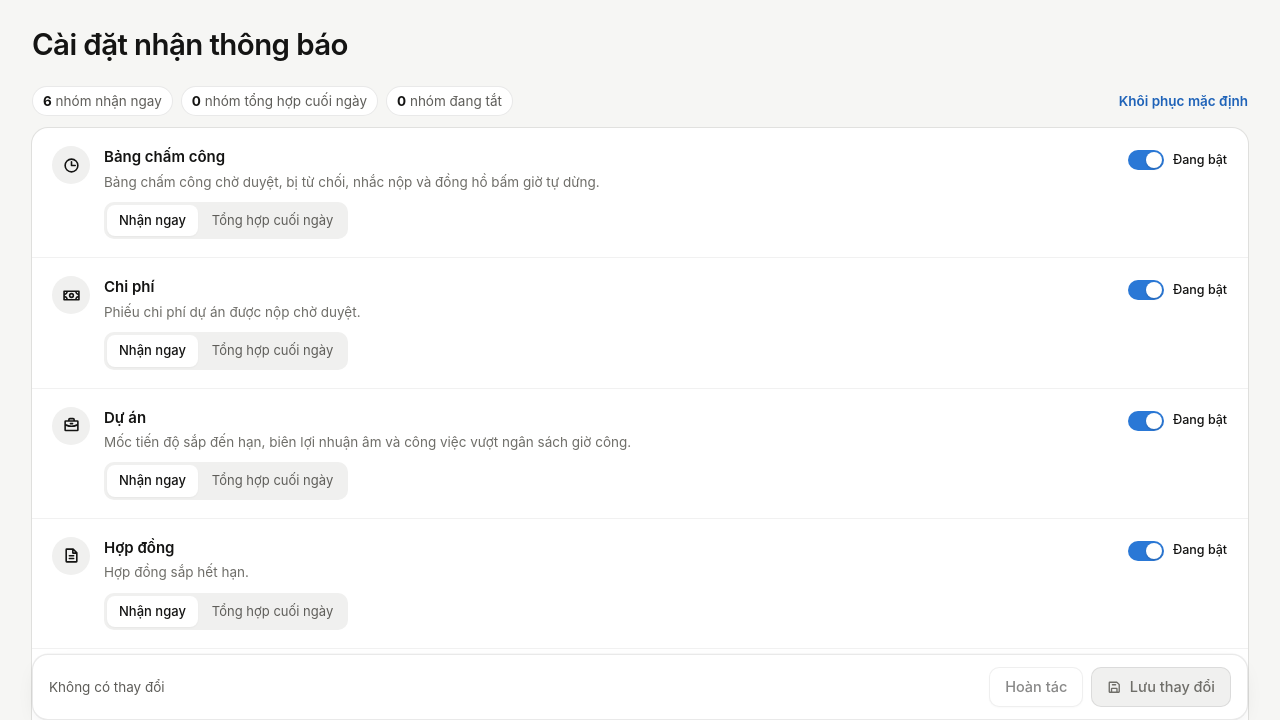
Test: NotificationPreferencePage (NCL-14-CN-002) › TC-01: tắt nhóm Dự án rồi lưu thì chỉ gửi nhóm đó với enabled=false
Click the switch with test id "pref-switch-PROJECT".
click(1178, 421)  # box [1128, 411, 1228, 431]
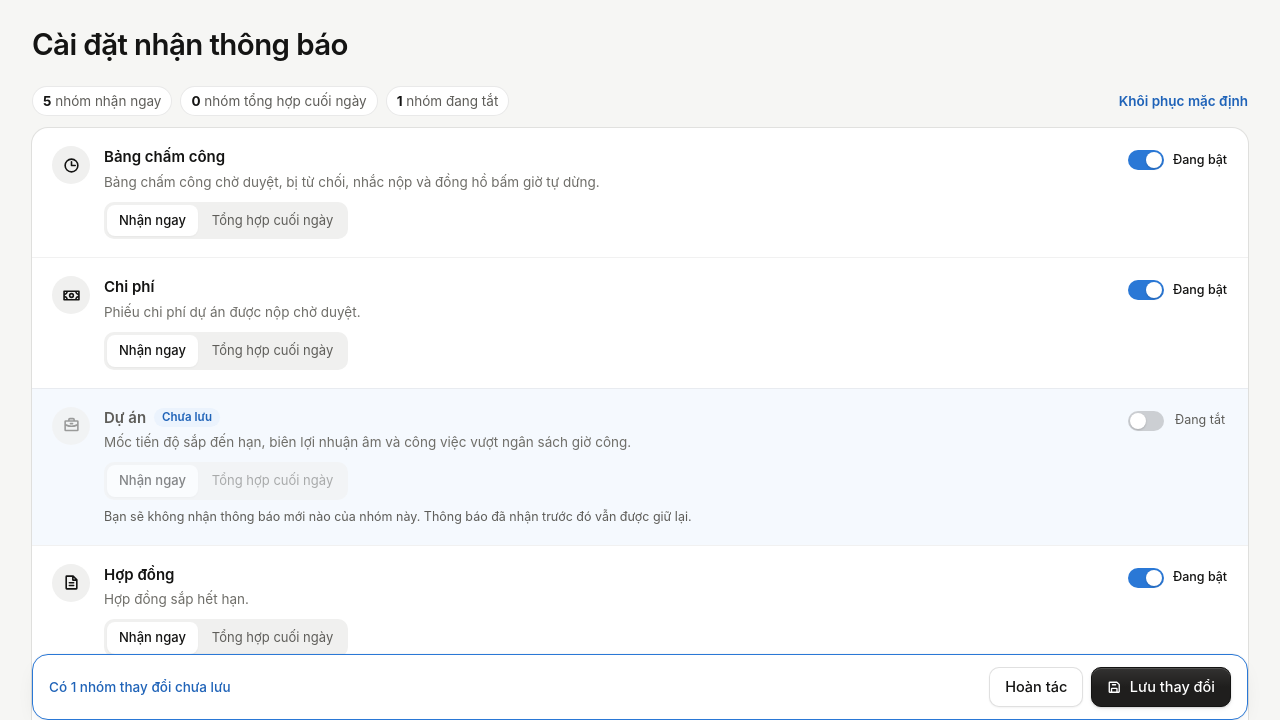
Expected: the text "Chưa lưu" is shown, [154, 408, 220, 428]
Expected: the radio button with test id "pref-freq-PROJECT-DAILY_DIGEST" is disabled, [212, 472, 333, 488]
Expected: the text with test id "pref-note-PROJECT" shows "không nhận thông báo mới", [104, 509, 692, 524]
Click the button with test id "btn-pref-save".
click(1161, 687)  # box [1091, 667, 1231, 707]
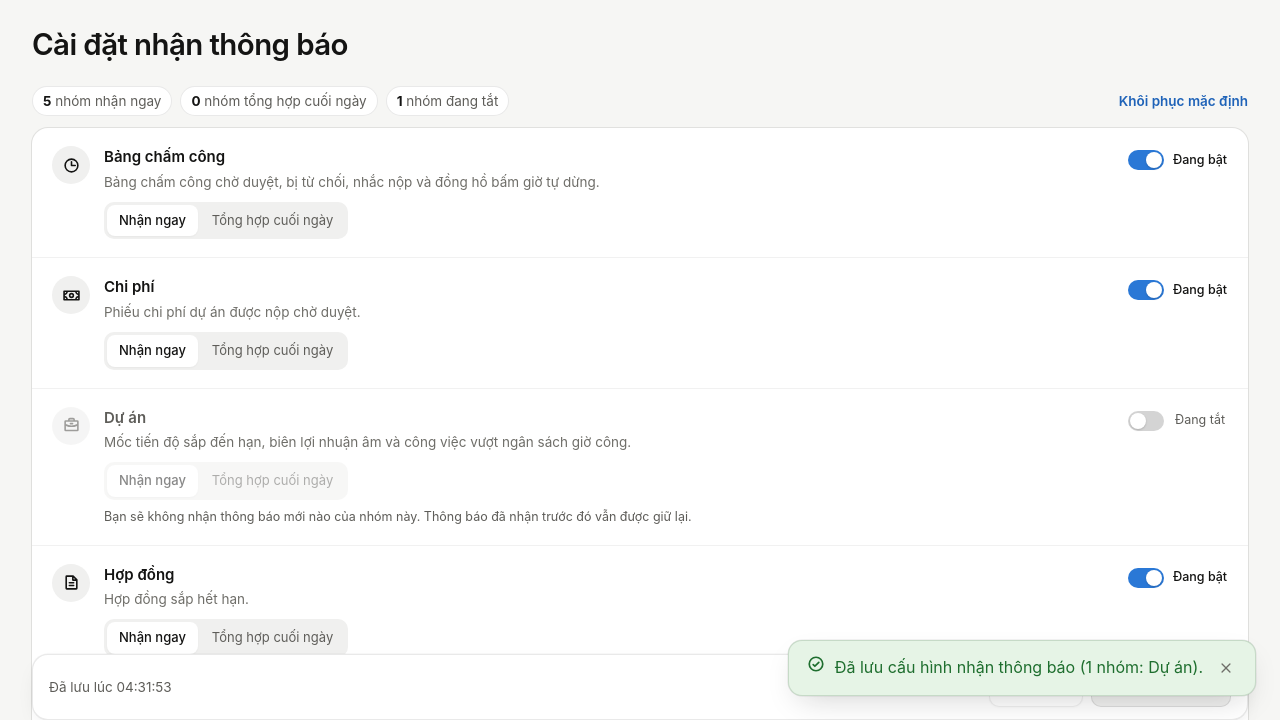
Expected: the text "Đã lưu cấu hình nhận thông báo (1 nhóm: Dự án)." is shown, [835, 654, 1203, 678]
Expected: the text with test id "pref-dirty-PROJECT" is gone
Expected: the button with test id "btn-pref-save" is disabled, [1091, 667, 1231, 707]
